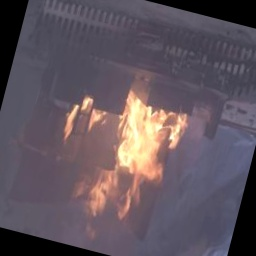fire: (47, 79, 199, 235)
